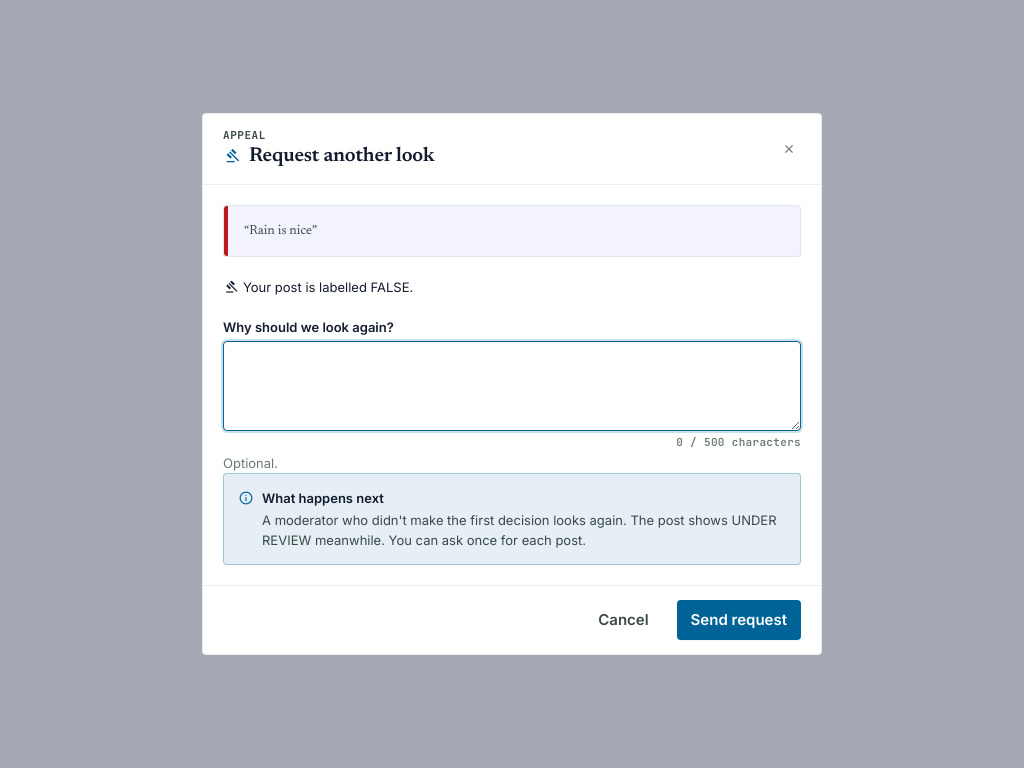
AppealModal › when the server says no › says when it is too many, with the wait
This screenshot has width=1024, height=768.
Type "words kept" into the text box labelled "Why should we look again?".
click(512, 386); type("words kept")  # box [223,341,801,431]
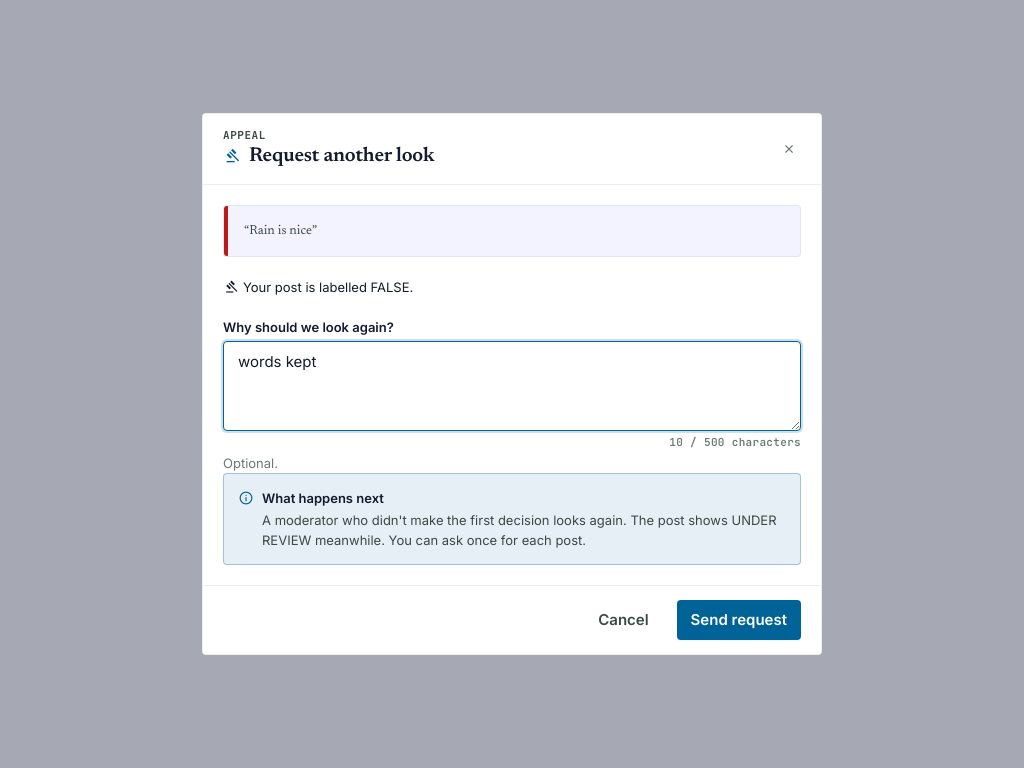
Click the button "Send request".
click(739, 620)  # box [677,600,801,640]
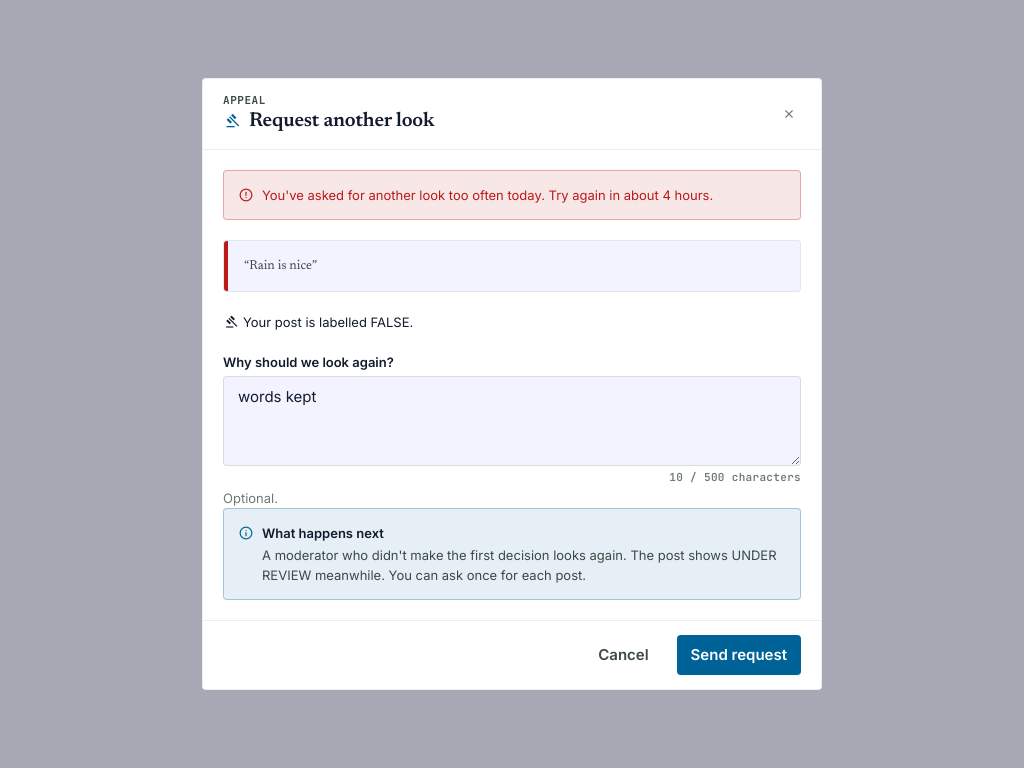
Expected: the message reads "You've asked for another look too often today. Try again in about 4 hours.", [262,187,713,203]
